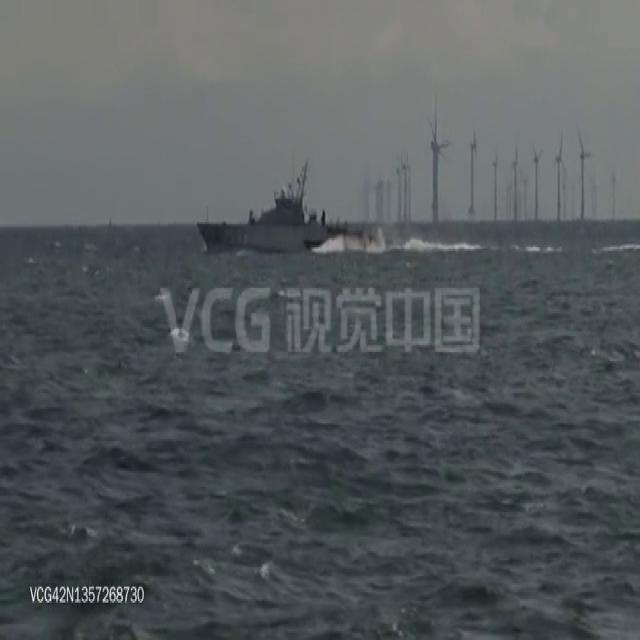navalvessels: (192, 170, 385, 254)
